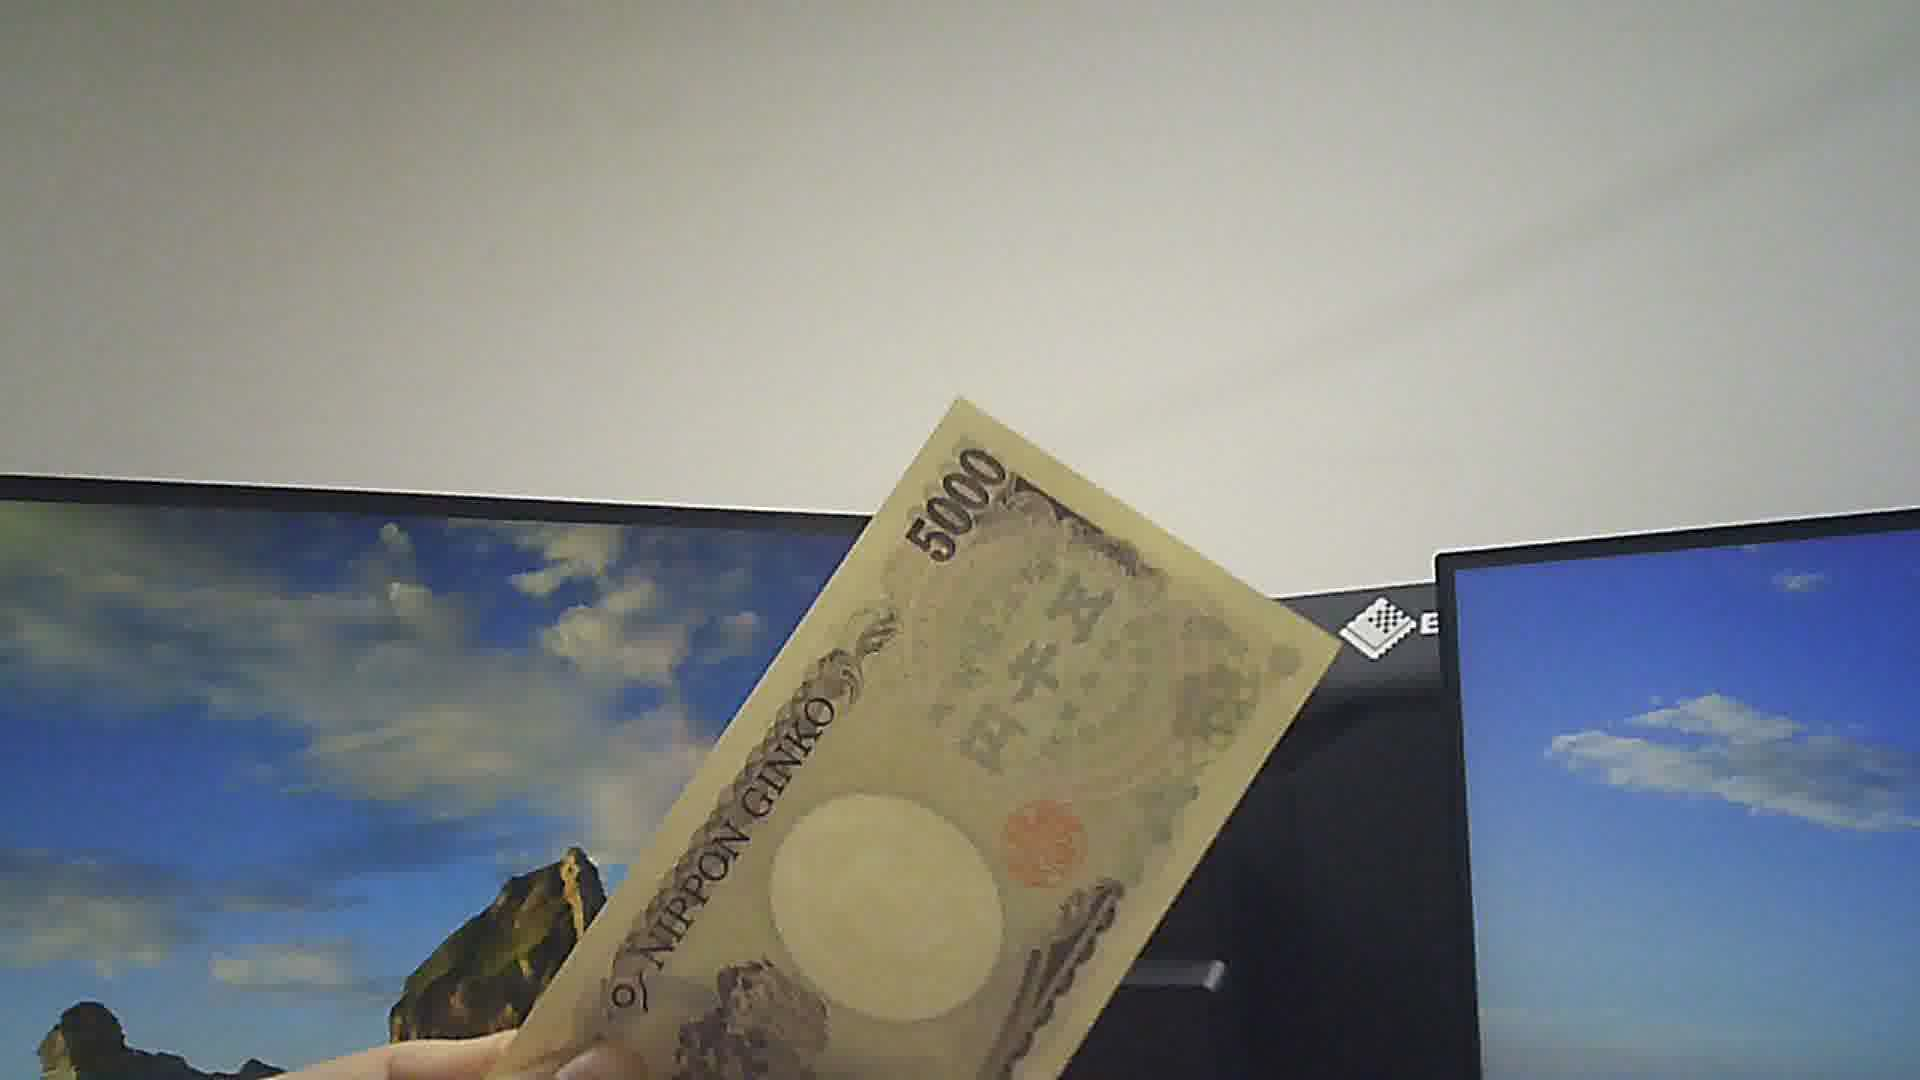5,000 Yen: (541, 401, 1305, 1079)
